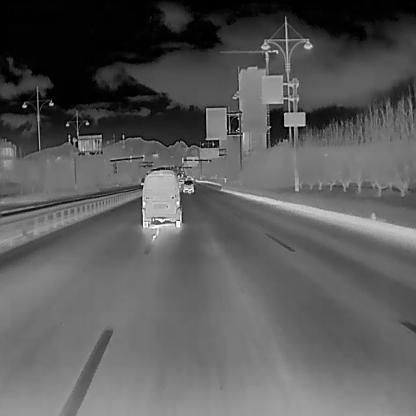car: (140, 168, 182, 228), (181, 180, 192, 192)
